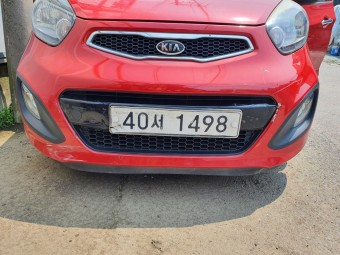car: (107, 103, 242, 141)
